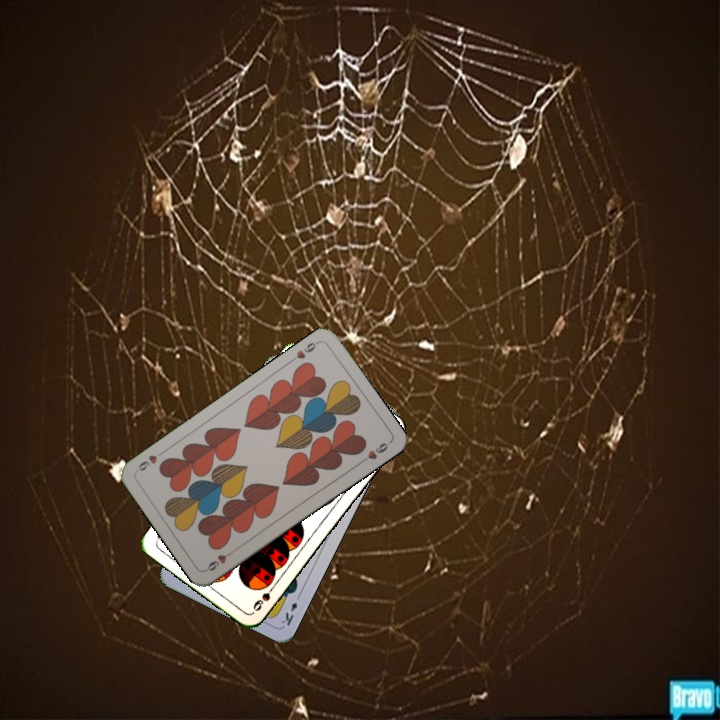EK: (277, 589, 304, 628)
H9: (202, 546, 238, 574), (286, 337, 322, 365)
S9: (249, 579, 279, 614)
